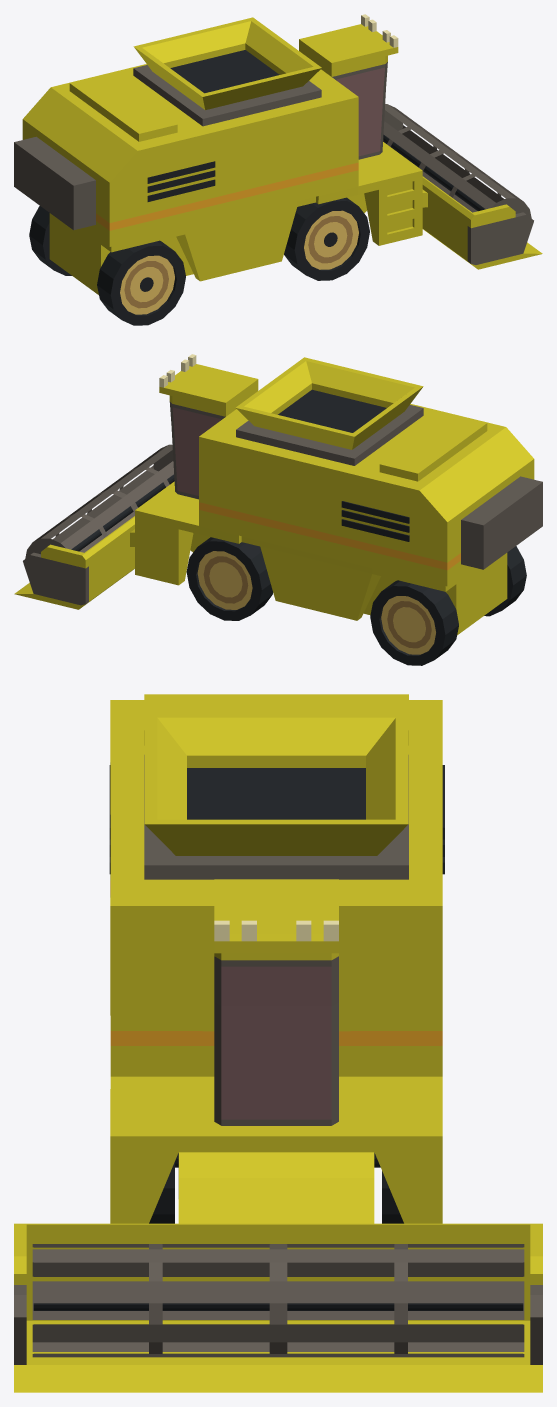
Rendered from harvester.fbx.
3 views of the same model, one above another, from view 1: azimuth 30°, elevation 25°; view 2: azimuth 150°, elevation 25°; view 3: azimuth 270°, elevation 25° (orthographic). The views are drawn at different scales.
Visible parts, largest first — view 1: Harvester, BackWheels, reaper_0, reaper_0_rot, FrontWheels; view 2: Harvester, BackWheels, reaper_0, reaper_0_rot, FrontWheels; view 3: Harvester, reaper_0_rot, reaper_0, FrontWheels.
Boxes of the visible parts, box(x1,y1,x2,y2) form: Harvester: box(14, 14, 427, 294); BackWheels: box(29, 206, 185, 325); reaper_0: box(422, 176, 542, 269); reaper_0_rot: box(383, 104, 531, 218); FrontWheels: box(284, 197, 369, 280); Harvester: box(130, 354, 542, 635); BackWheels: box(370, 546, 526, 665); reaper_0: box(14, 516, 134, 609); reaper_0_rot: box(25, 444, 174, 558); FrontWheels: box(186, 537, 272, 620); Harvester: box(109, 694, 444, 1223); reaper_0_rot: box(32, 1244, 524, 1357); reaper_0: box(14, 1223, 542, 1392); FrontWheels: box(149, 1162, 403, 1223).
Size of the model in its own units: 1118 by 519 by 623.
Materials: 3 (3 with a texture image).
